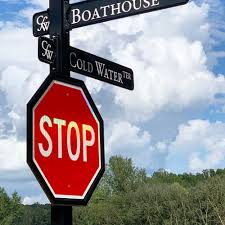stop sign: (25, 74, 106, 206)
